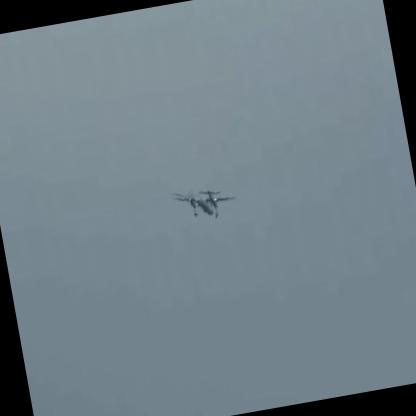plane: (171, 181, 240, 226)
